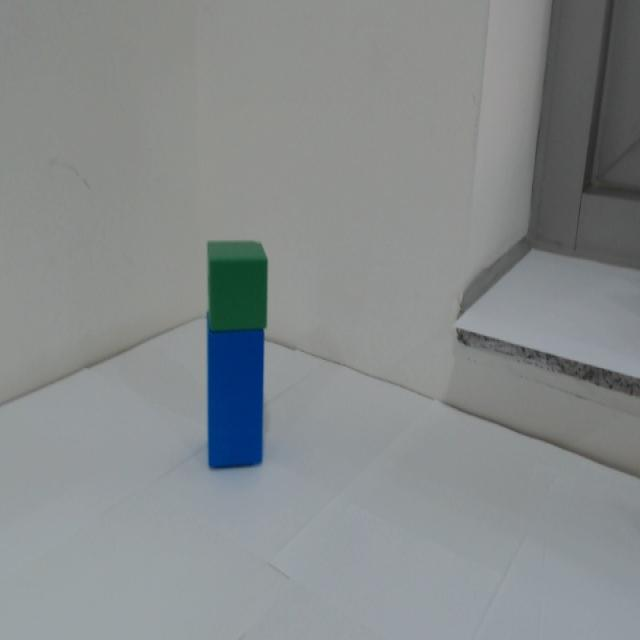cube: (203, 234, 284, 334)
